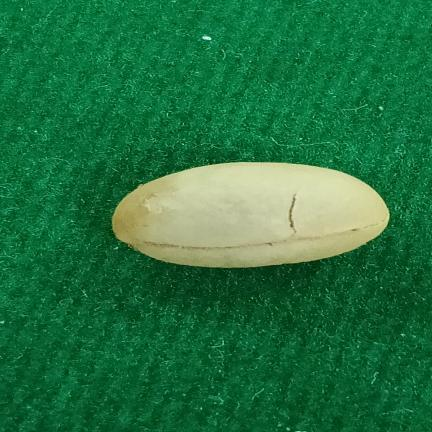parchment: (112, 162, 389, 268)
